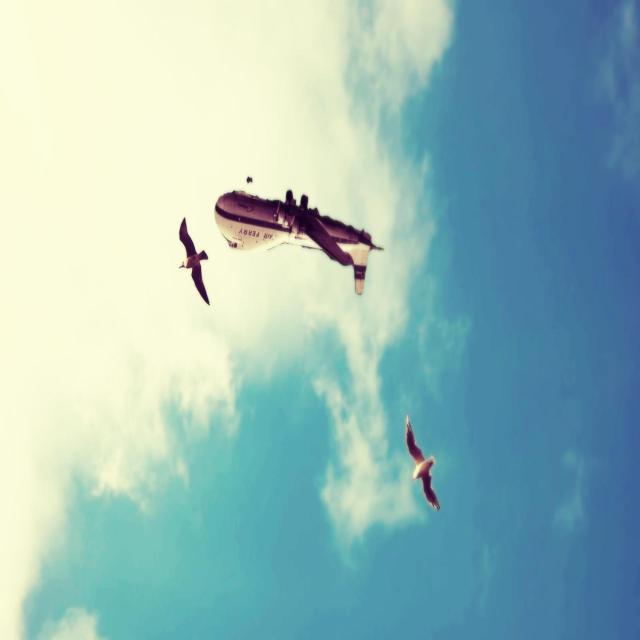airplane: (214, 187, 384, 296)
